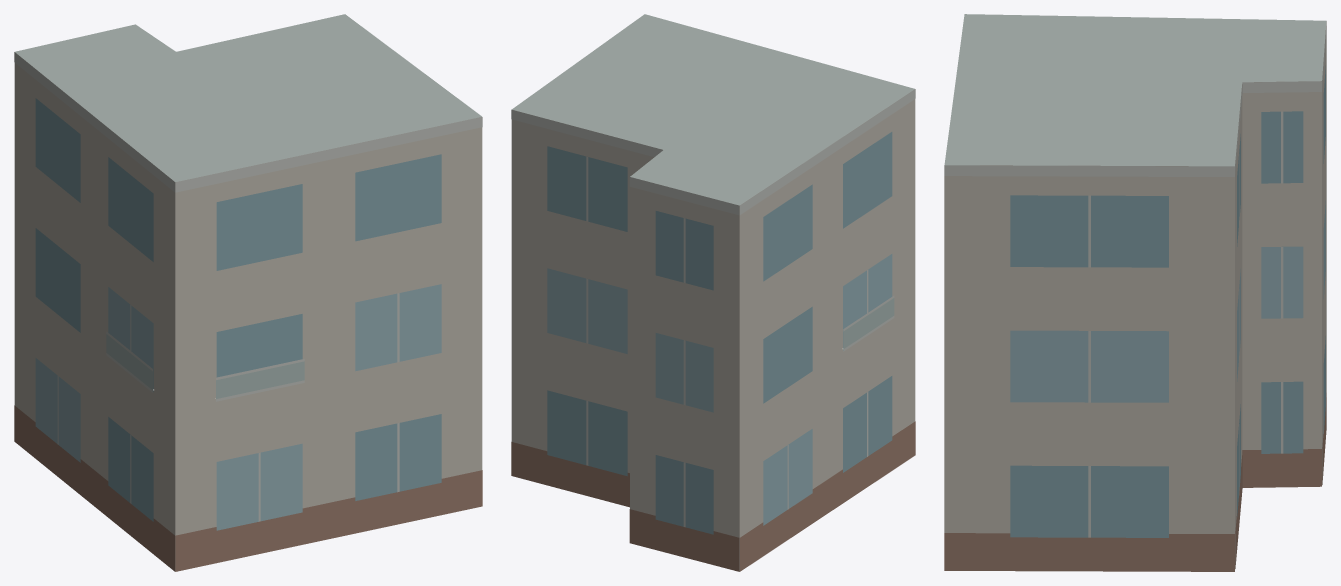
File: survey-upis-32544809.glb
3 views of the same model, side by side, from view 1: azimuth 30°, elevation 25°; view 2: azimuth 150°, elevation 25°; view 3: azimuth 270°, elevation 25° (orthographic). The views are drawn at different scales.
Parts seen in each view (by area): view 1: survey-upis-32544809.tmp; view 2: survey-upis-32544809.tmp; view 3: survey-upis-32544809.tmp.
Part boxes in pixels (box(x1,y1,x2,y2)): survey-upis-32544809.tmp: box(14, 14, 482, 571); survey-upis-32544809.tmp: box(511, 14, 915, 571); survey-upis-32544809.tmp: box(944, 14, 1326, 571).
Bounding box in the file's own units: 7.34 × 9.1 × 7.78.
